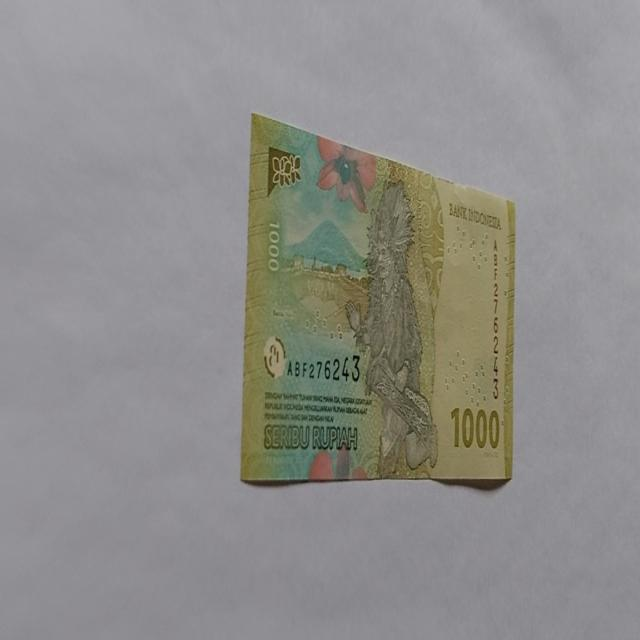seribu rupiah kertas: (239, 110, 516, 486)
